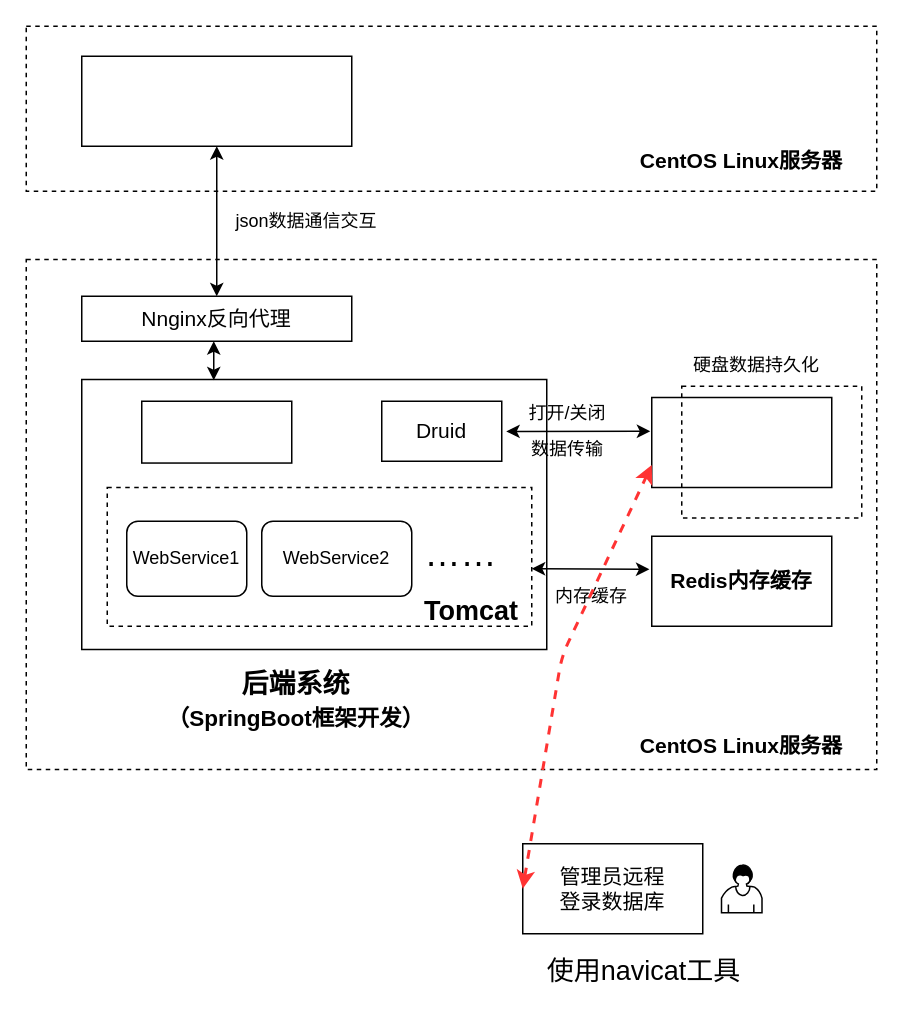
This 903x1014 diagram has some shape labels left out. Each missing label, with the centre of its shape:
Fastjson 数据解析: point (216, 431)
MySQL数据库: point (741, 442)
前端界面 （Vue框架开发）: point (216, 100)
